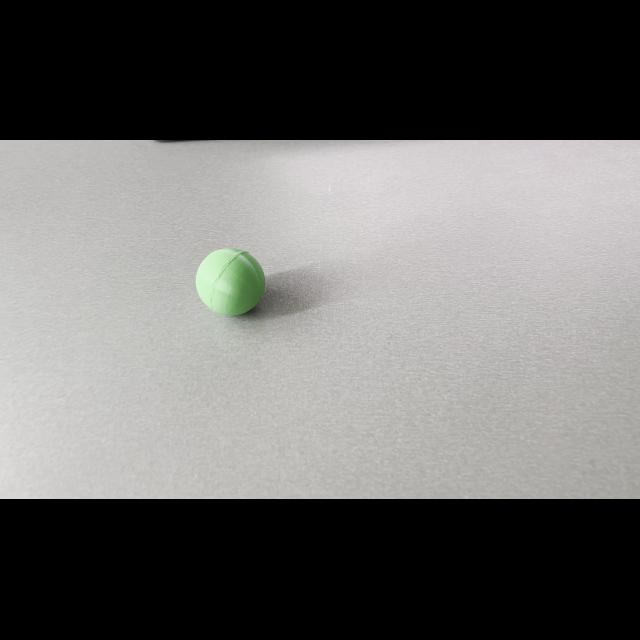objects: (190, 238, 272, 324)
